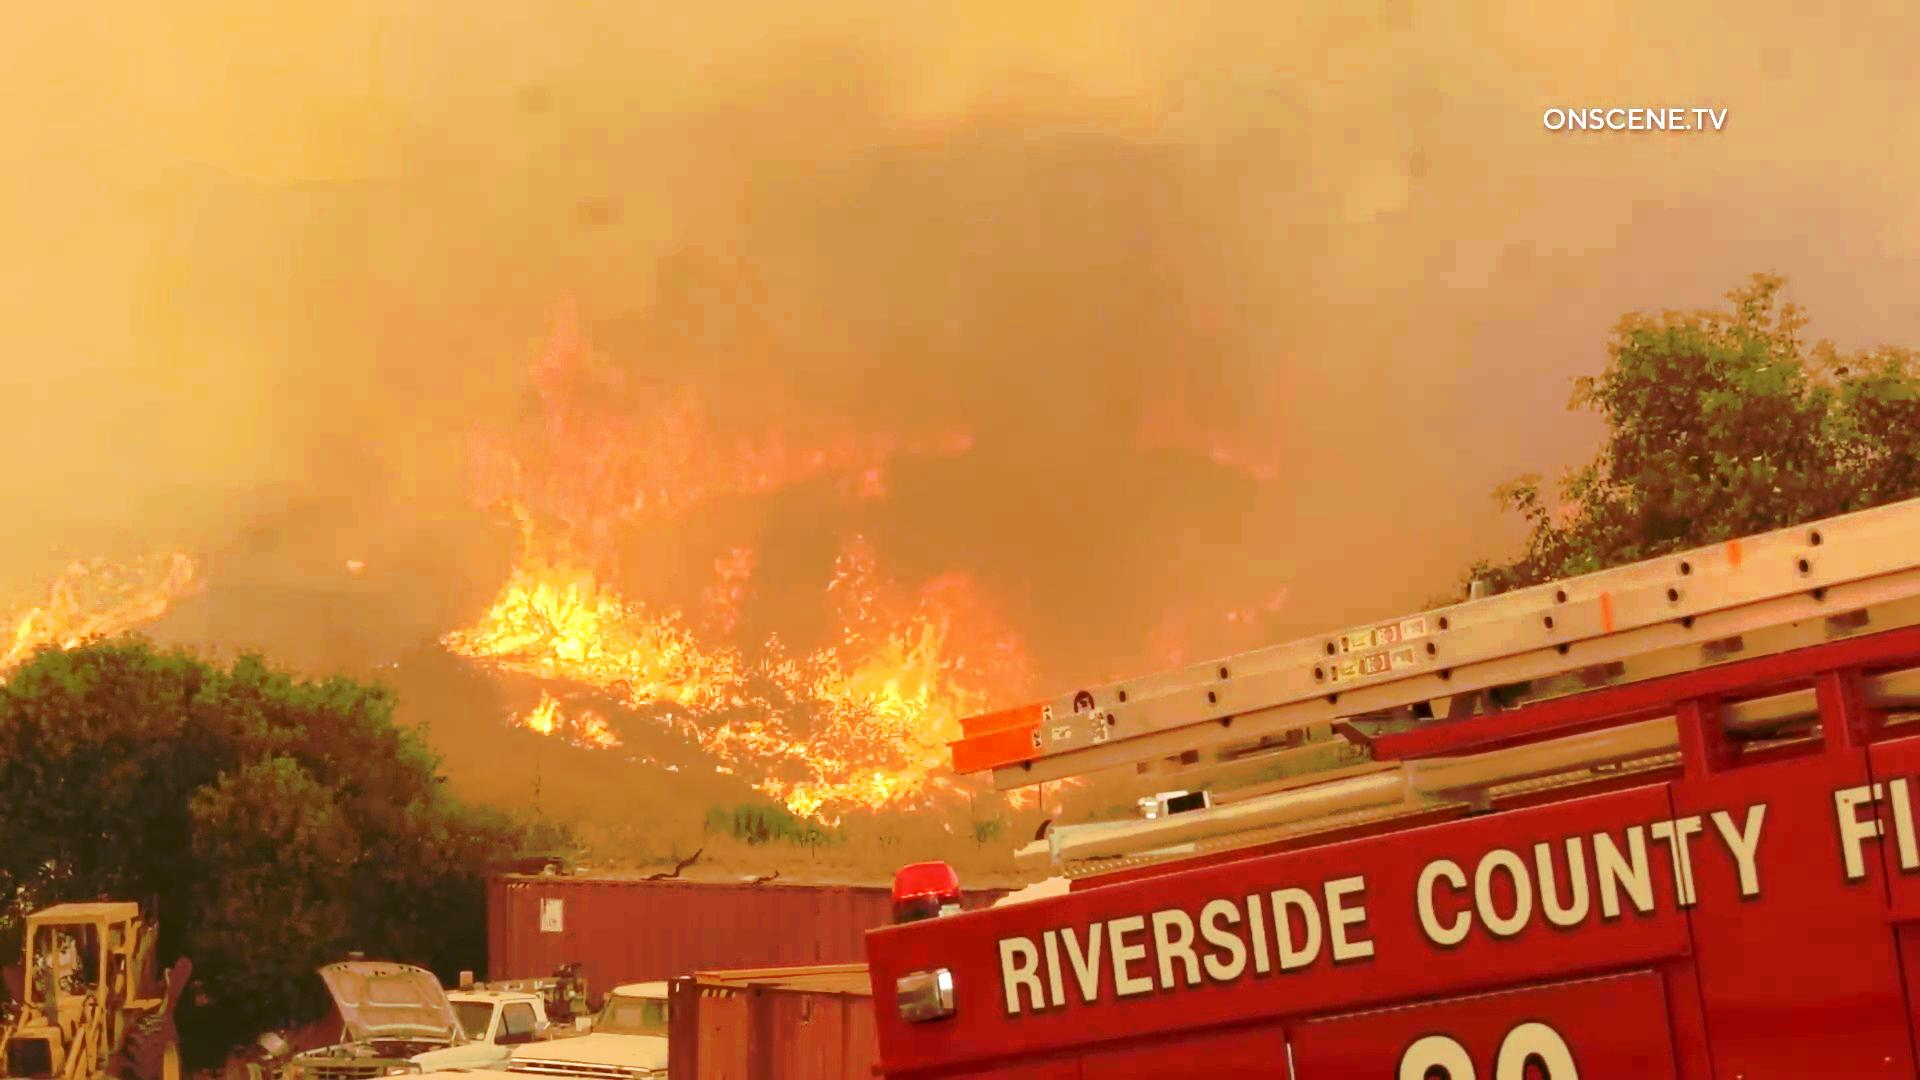fire: (483, 535, 1031, 831), (502, 335, 737, 525), (0, 538, 198, 696)
